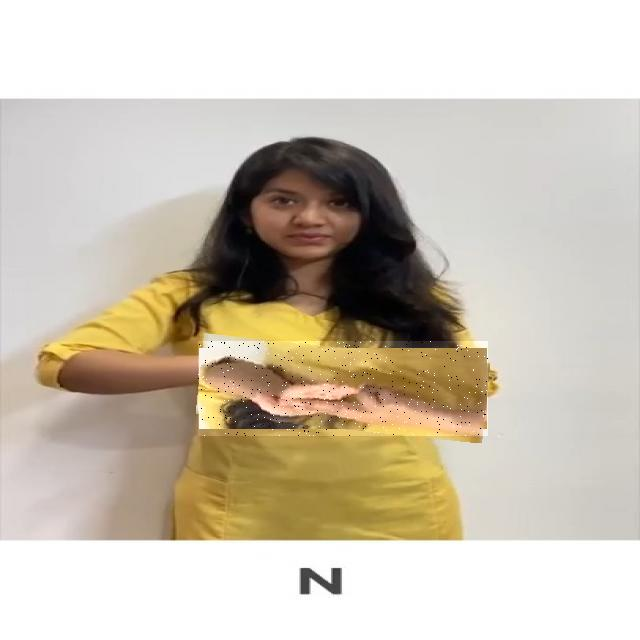N: (198, 341, 488, 436)
